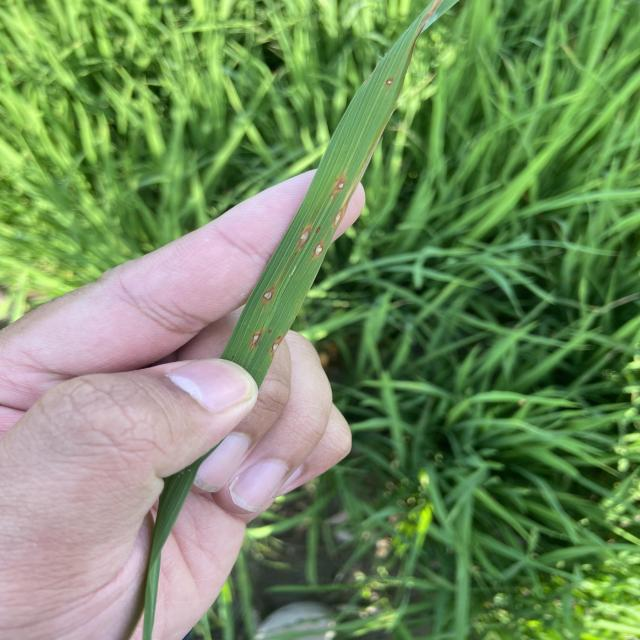Dao on: (330, 179, 346, 199), (298, 227, 311, 249), (271, 336, 283, 356), (314, 241, 324, 257), (333, 211, 343, 227), (252, 333, 260, 346), (263, 291, 272, 301), (385, 78, 393, 87)
